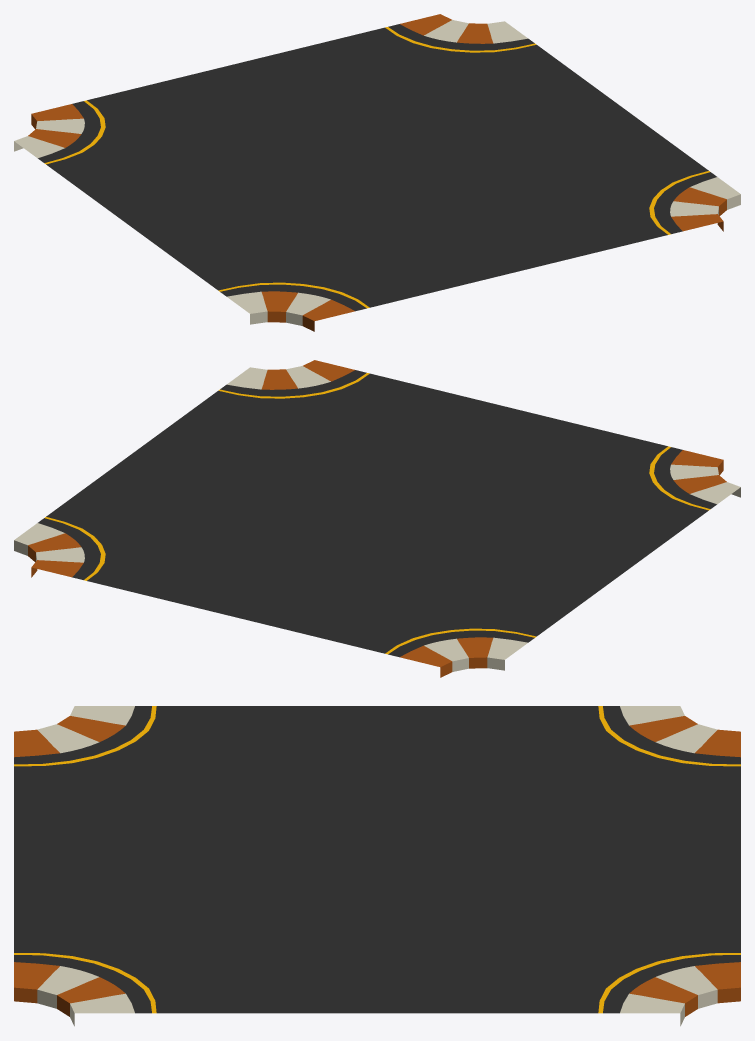
Rendered from SM_Road_02_A.fbx.
3 views of the same model, one above another, from view 1: azimuth 30°, elevation 25°; view 2: azimuth 150°, elevation 25°; view 3: azimuth 270°, elevation 25° (orthographic). The views are drawn at different scales.
Visible parts, largest first — view 1: SM_Road_02_A_LOD0; view 2: SM_Road_02_A_LOD0; view 3: SM_Road_02_A_LOD0.
Part boxes in pixels (x1,y1,x2,y2): SM_Road_02_A_LOD0: (14, 14, 740, 331); SM_Road_02_A_LOD0: (14, 360, 740, 677); SM_Road_02_A_LOD0: (14, 706, 740, 1026).
Size of the model in its own units: 1200 by 1200 by 25.
1 material, 1 textured.
